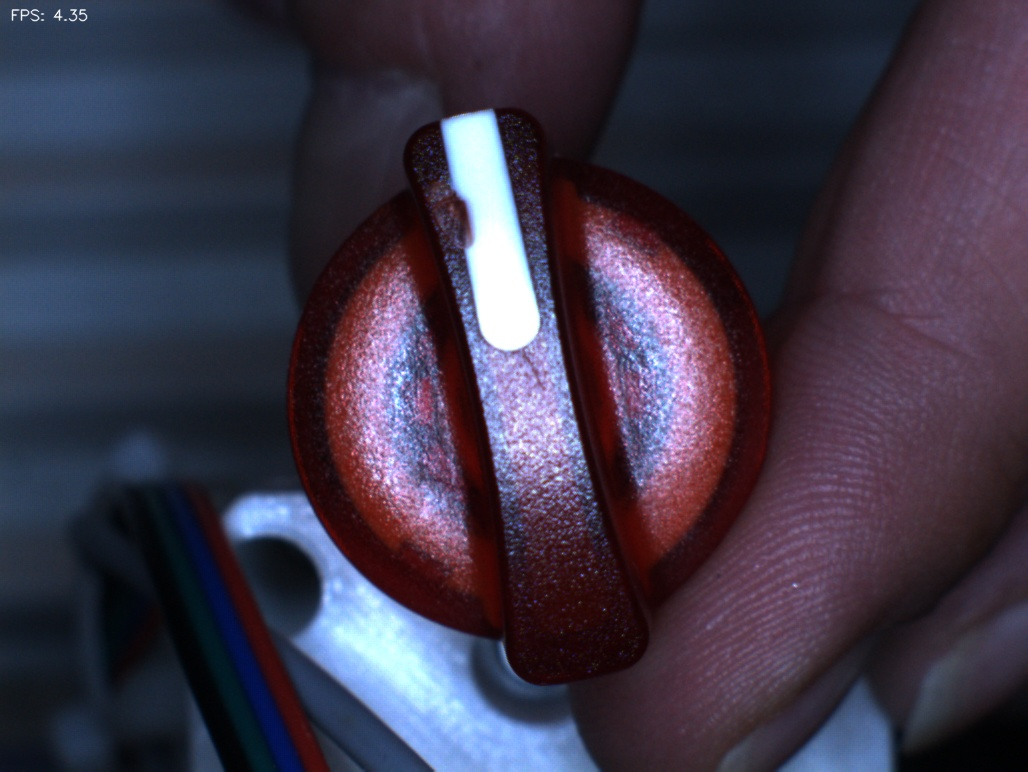Choc: (393, 159, 495, 261)
